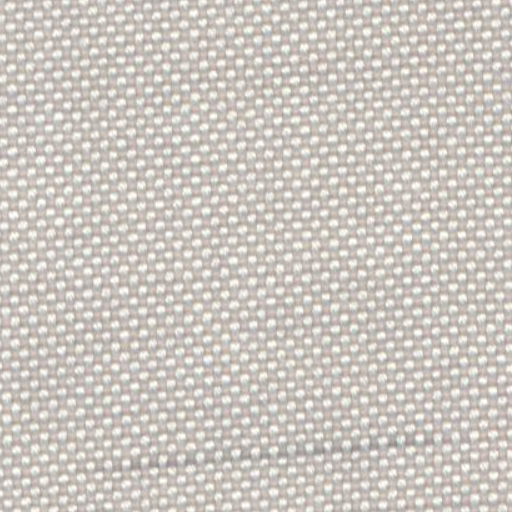WuZi: (110, 423, 448, 470)
